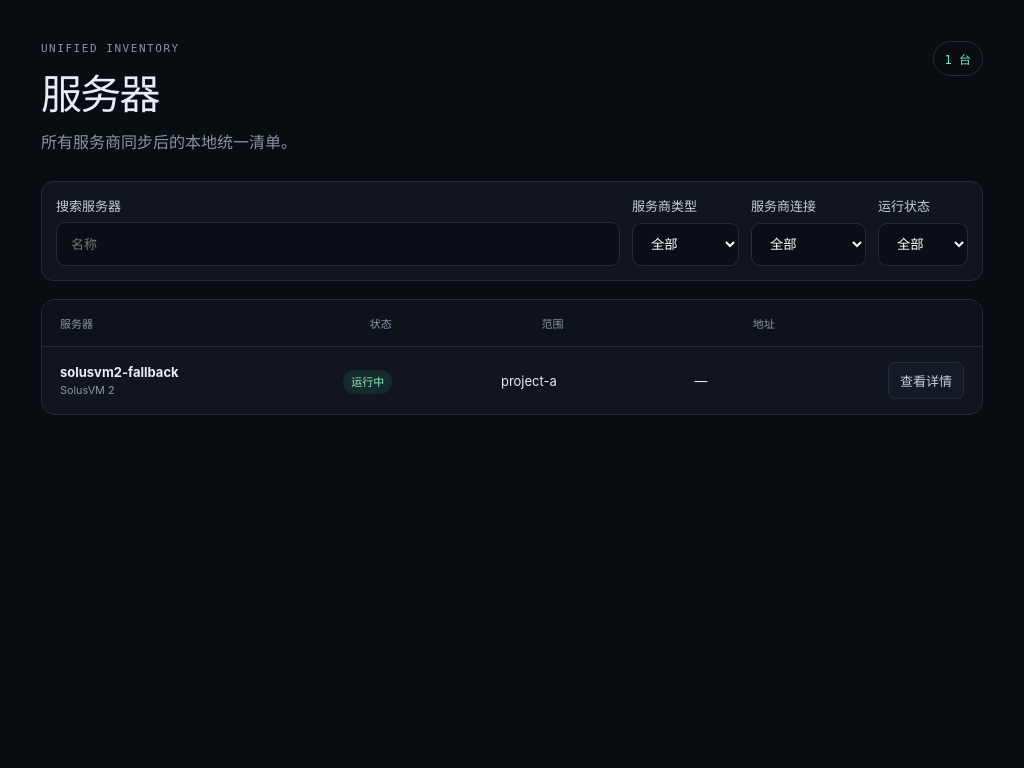
Test: keeps the SolusVM 2 provider portal available when both VNC modes are unavailable
Click the button with aria-label "查看 solusvm2-fallback": coordinates (926, 381) [888,362,964,399]
(page scrolled)
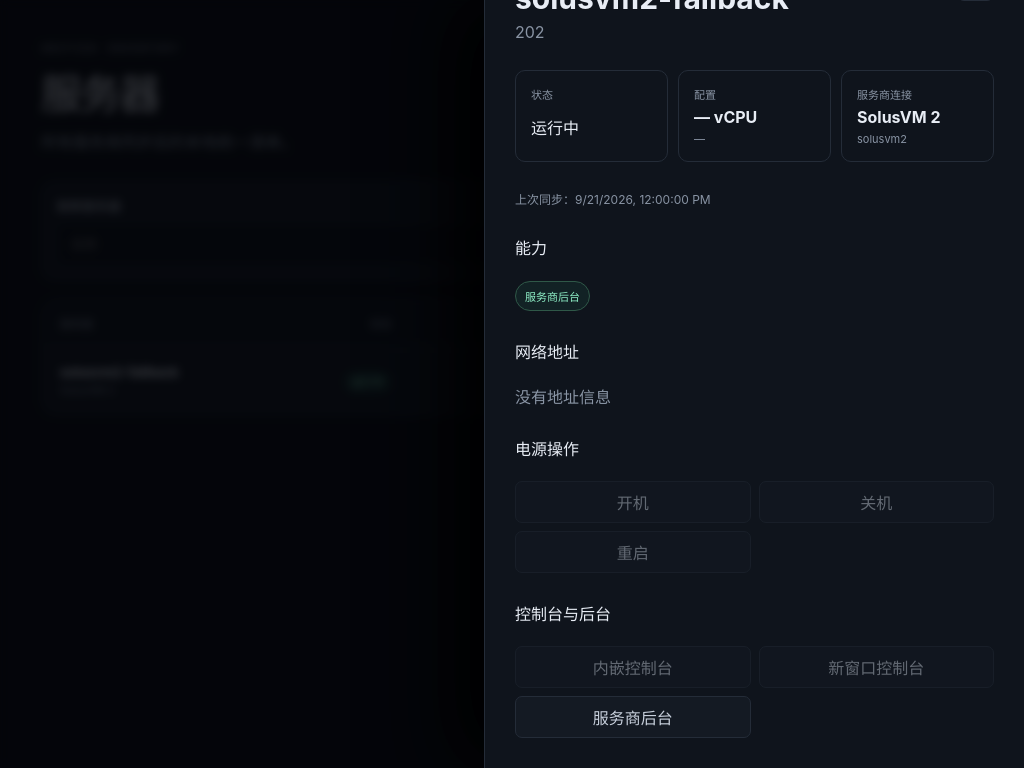
Expected: the button "内嵌控制台" is disabled, [515,646,750,688]
Expected: the button "新窗口控制台" is disabled, [758,646,994,688]
Expected: the button "服务商后台" is enabled, [515,696,750,738]
